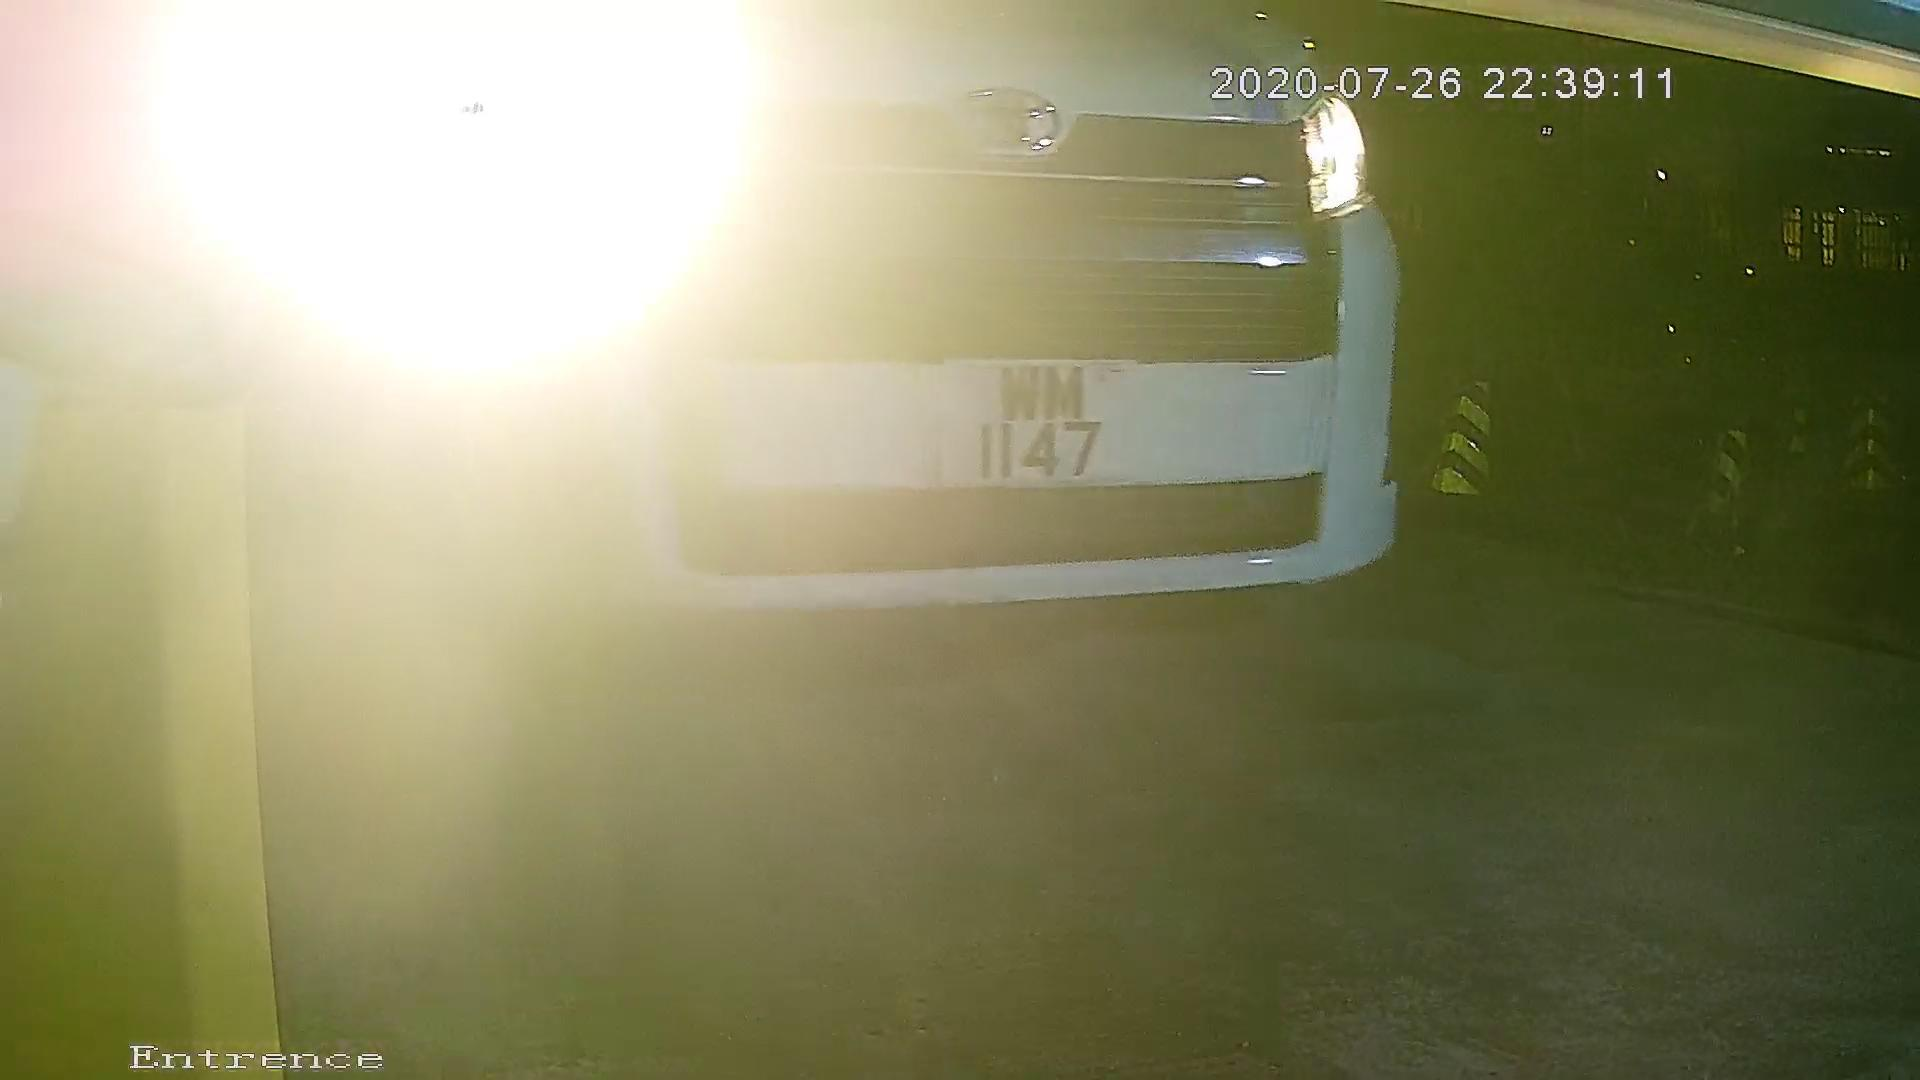Car: (61, 68, 1741, 907)
License Plate: (918, 344, 1182, 505)
